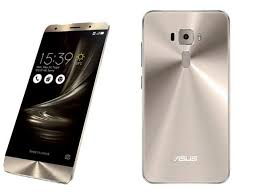asus: (1, 19, 112, 186), (139, 7, 234, 187)
